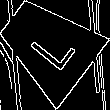L_NW: (20, 18, 76, 73)
